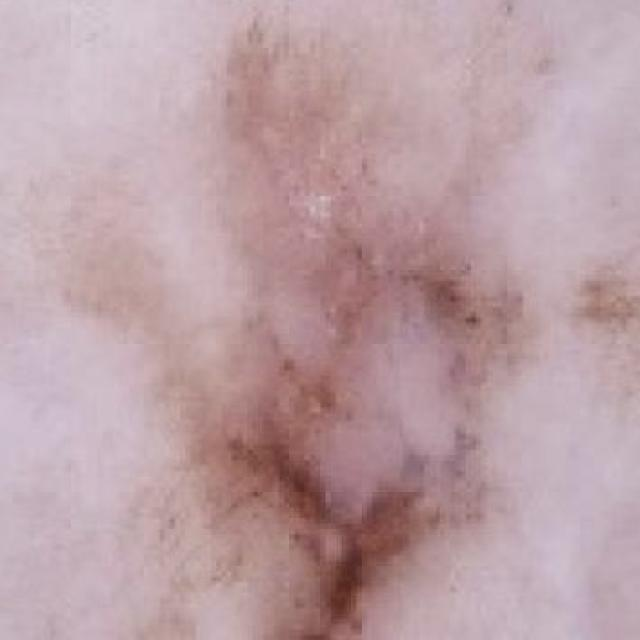AKIEC: (89, 3, 538, 640)
